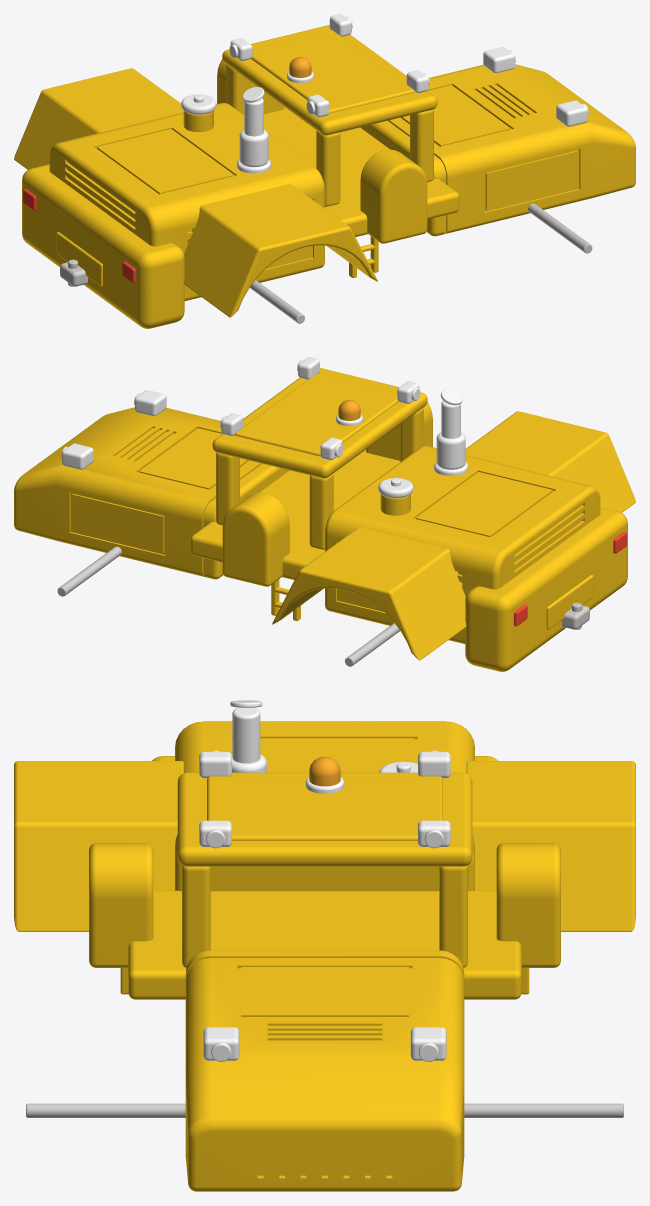
The model's file is SM_Navvy_Body.fbx.
3 renders of one model, top to bottom at view 1: azimuth 30°, elevation 25°; view 2: azimuth 150°, elevation 25°; view 3: azimuth 270°, elevation 25°, orthographic. The views are drawn at different scales.
Parts seen in each view (by area): view 1: SM_Navvy_Body; view 2: SM_Navvy_Body; view 3: SM_Navvy_Body.
Part boxes in pixels (x1,y1,x2,y2): SM_Navvy_Body: (14, 14, 635, 328); SM_Navvy_Body: (14, 357, 635, 671); SM_Navvy_Body: (14, 700, 635, 1191).
Bounding box in the file's own units: 0.87 × 1.2 × 0.429.
